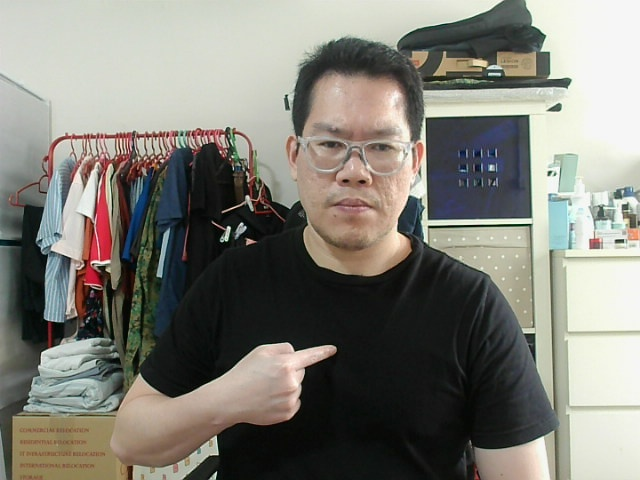I: (232, 348, 332, 413)
